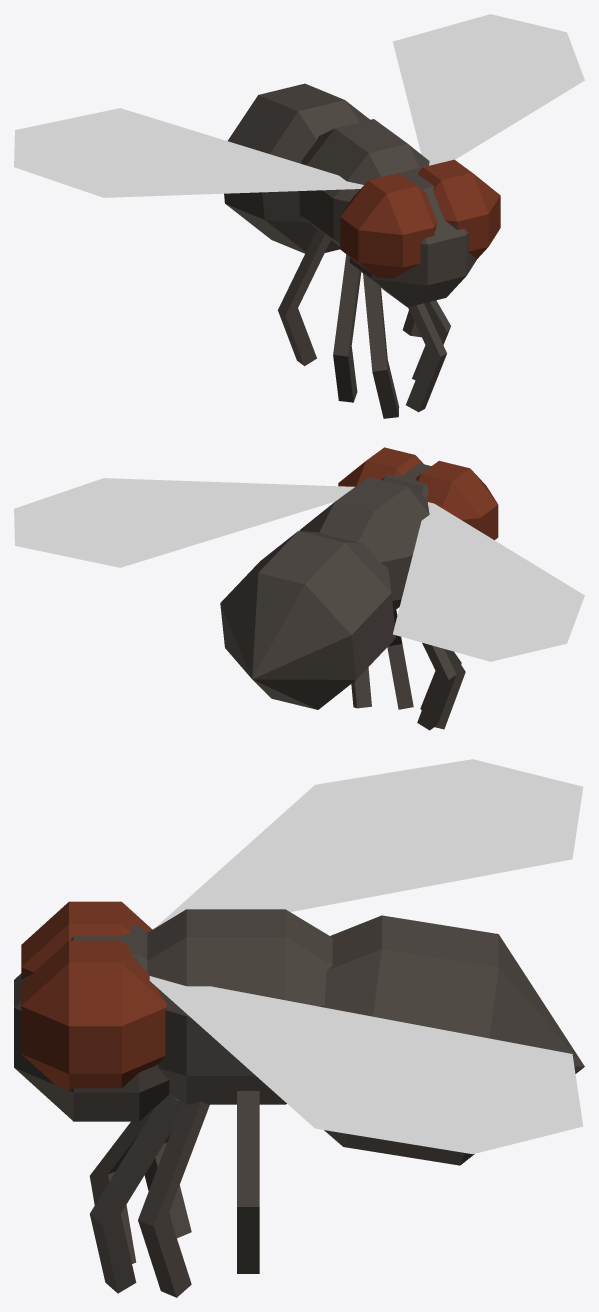
Rendered from bug_fly.fbx.
3 renders of one model, top to bottom at view 1: azimuth 30°, elevation 25°; view 2: azimuth 150°, elevation 25°; view 3: azimuth 270°, elevation 25°, orthographic. The views are drawn at different scales.
Visible parts, largest first — view 1: Cube.001; view 2: Cube.001; view 3: Cube.001.
Part boxes in pixels (x1,y1,x2,y2): Cube.001: (14, 14, 584, 418); Cube.001: (14, 447, 584, 730); Cube.001: (14, 759, 584, 1297).
Bounding box in the file's own units: 15.16 × 6.46 × 9.26.
